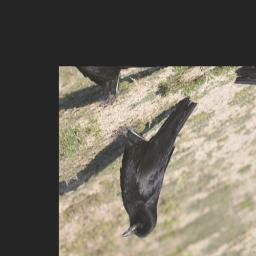Crow: (86, 87, 231, 250)
